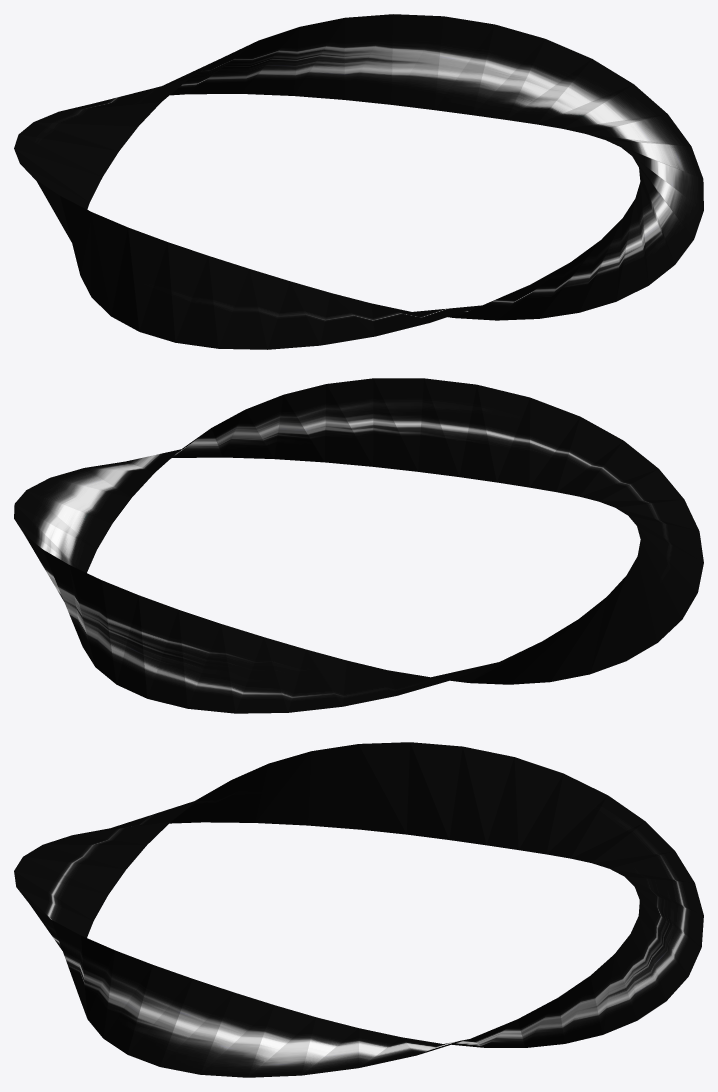
The model's file is 0313_huan2.glb.
3 views of the same model, one above another, from view 1: azimuth 30°, elevation 25°; view 2: azimuth 150°, elevation 25°; view 3: azimuth 270°, elevation 25° (orthographic).
Size of the model in its own units: 2.14 by 0.3014 by 2.2.
1 material, 1 textured.
